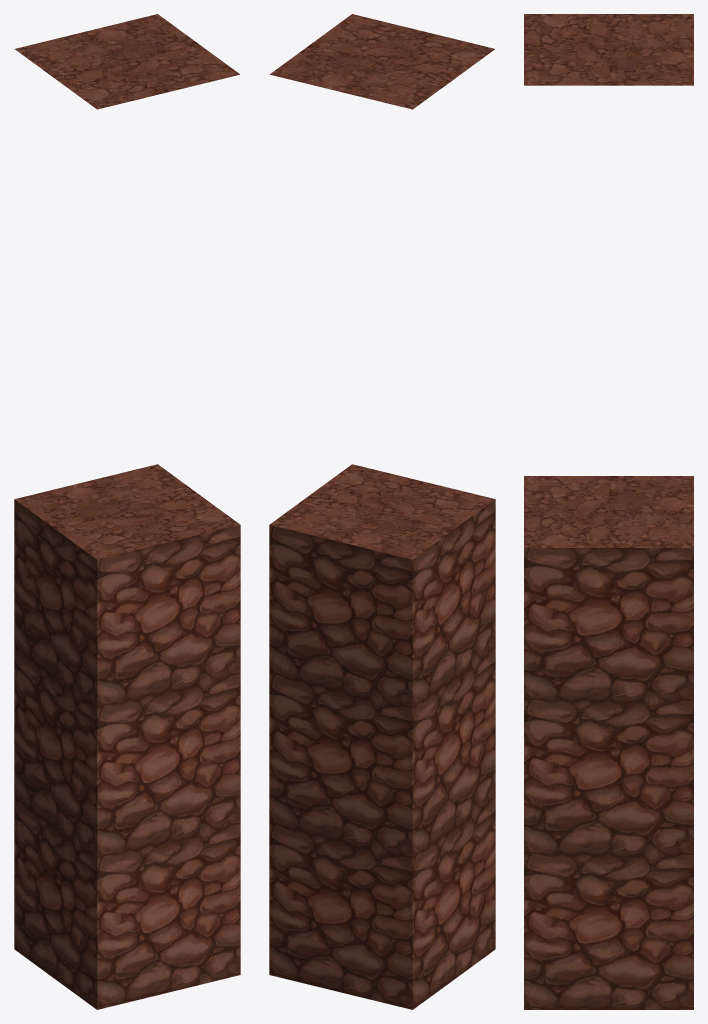
The model's file is Floor_3Column_OBJ.obj.
The picture shows the model from 3 angles, left to right: view 1: azimuth 30°, elevation 25°; view 2: azimuth 150°, elevation 25°; view 3: azimuth 270°, elevation 25°; orthographic projection. The views are drawn at different scales.
Parts seen in each view (by area): view 1: pPlane122; view 2: pPlane122; view 3: pPlane122.
Part boxes in pixels (x1,y1,x2,y2): pPlane122: (14, 14, 240, 1009); pPlane122: (269, 14, 495, 1009); pPlane122: (524, 14, 693, 1009).
Bounding box in the file's own units: 2 × 12 × 2.
2 materials, 2 textured.
